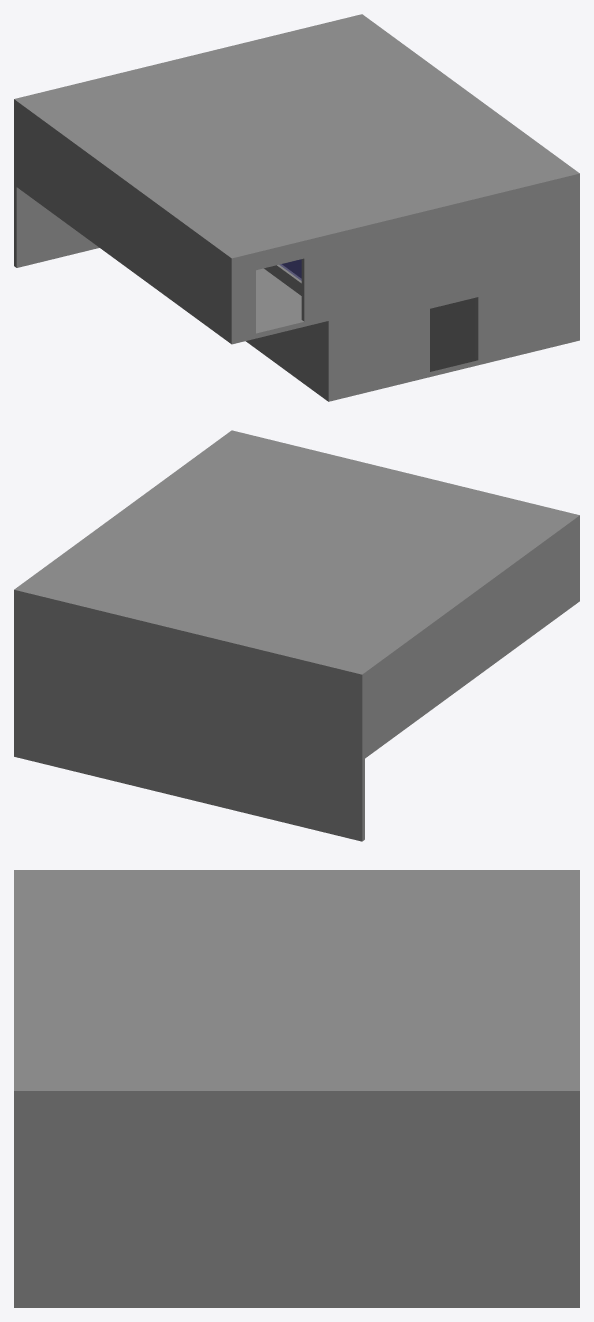
File: area_51_training.glb
3 views of the same model, one above another, from view 1: azimuth 30°, elevation 25°; view 2: azimuth 150°, elevation 25°; view 3: azimuth 270°, elevation 25° (orthographic). The views are drawn at different scales.
Parts seen in each view (by area): view 1: store_tutorial-col; view 2: store_tutorial-col; view 3: store_tutorial-col.
Boxes of the visible parts, x1=… form: store_tutorial-col: x1=14, y1=14, x2=579, y2=401; store_tutorial-col: x1=14, y1=430, x2=579, y2=841; store_tutorial-col: x1=14, y1=870, x2=579, y2=1307.
Size of the model in its own units: 14.4 by 6.6 by 15.6.
2 materials, 1 textured.
